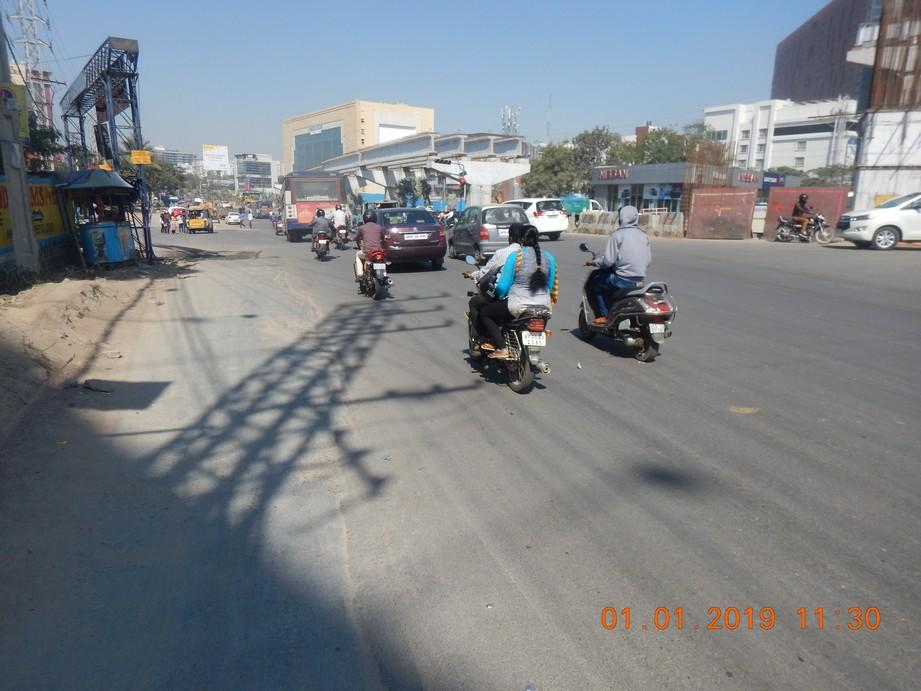plate: (518, 327, 548, 348)
